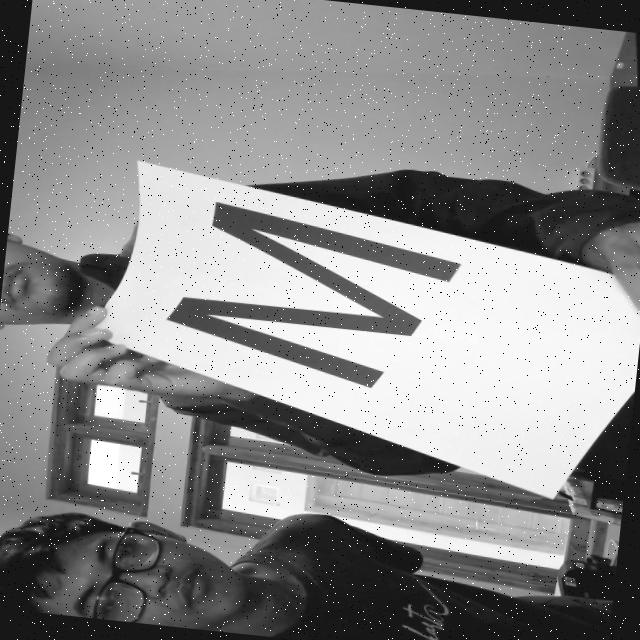m: (139, 184, 490, 418)
